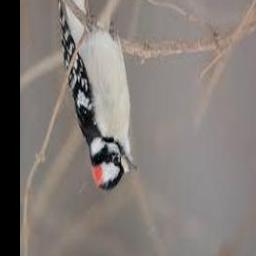Woodpecker: (58, 0, 137, 191)
